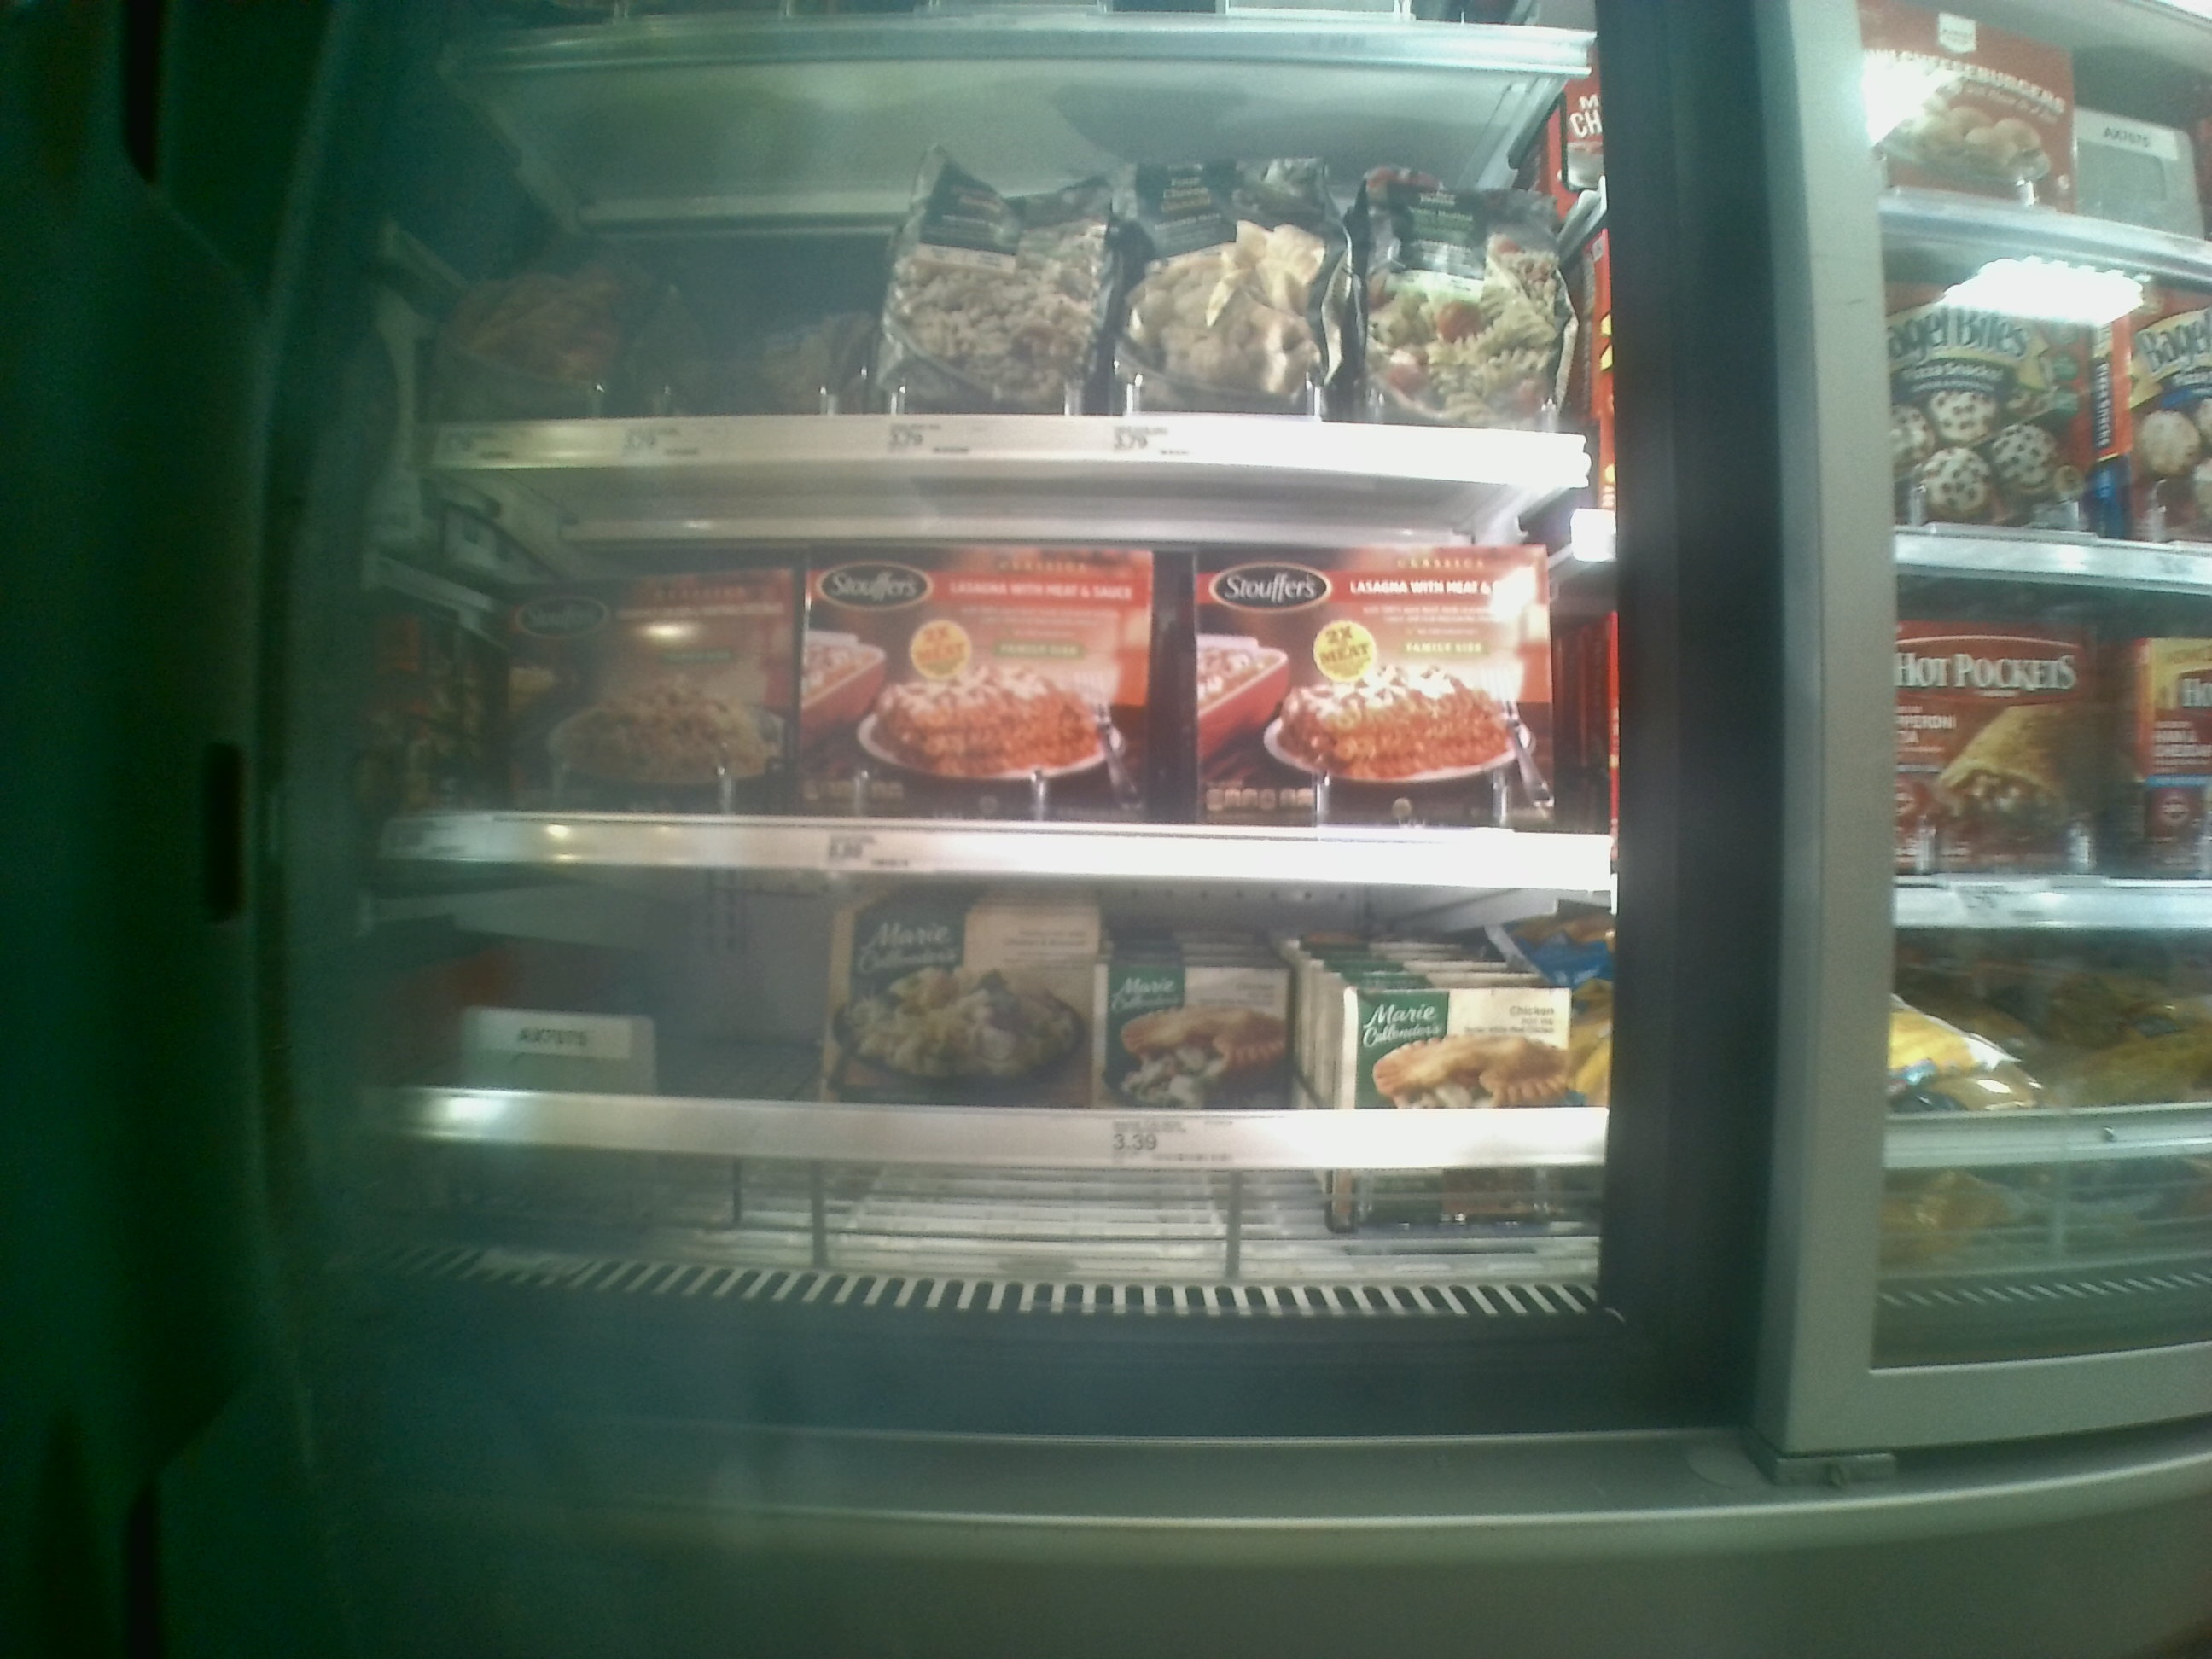shelf: (381, 864, 1618, 1316), (432, 460, 1627, 882), (413, 66, 1585, 474)
